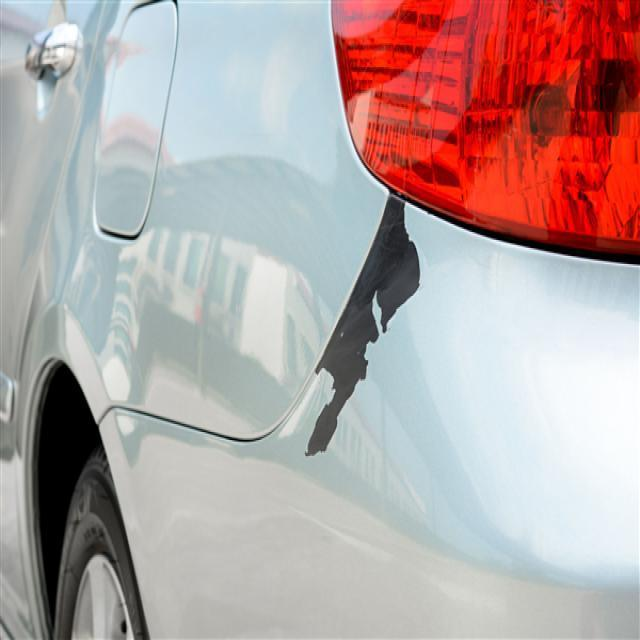scratch: (301, 190, 432, 467)
